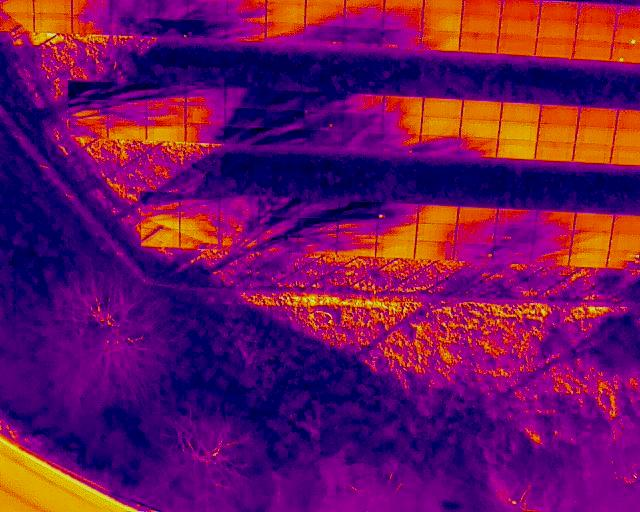Cell: (378, 203, 419, 221)
No-Anomaly: (579, 2, 617, 24), (422, 31, 461, 52), (534, 142, 574, 162), (538, 17, 577, 37), (461, 102, 502, 121), (539, 107, 580, 126), (420, 118, 461, 137), (461, 12, 499, 32), (498, 123, 538, 142), (423, 10, 461, 30), (34, 14, 73, 33), (498, 36, 537, 55), (419, 205, 458, 224), (458, 207, 497, 226), (500, 15, 537, 35), (500, 104, 541, 122), (460, 33, 498, 52), (266, 2, 304, 21), (415, 242, 455, 260), (537, 37, 573, 57), (573, 42, 613, 60), (575, 127, 617, 144), (576, 24, 613, 43), (574, 213, 613, 231), (423, 100, 462, 118), (375, 240, 416, 257), (459, 122, 500, 139), (578, 109, 619, 126), (573, 145, 614, 162), (417, 224, 455, 242), (570, 250, 610, 267), (572, 231, 612, 248), (498, 141, 537, 157), (537, 125, 576, 141), (147, 125, 185, 141), (502, 0, 540, 15), (539, 0, 577, 15), (108, 125, 146, 140), (34, 0, 72, 13)
Shadowing: (344, 28, 383, 52), (306, 26, 344, 50), (345, 5, 384, 28), (266, 22, 306, 43), (68, 80, 108, 101), (384, 29, 422, 51), (228, 0, 266, 22), (419, 137, 460, 157), (227, 22, 266, 43), (189, 0, 228, 21), (72, 15, 112, 35), (145, 84, 185, 104), (219, 195, 259, 215), (343, 94, 383, 114), (259, 196, 299, 216), (109, 82, 147, 103), (188, 19, 226, 40), (384, 7, 422, 28), (306, 4, 344, 25), (140, 210, 179, 230), (226, 87, 265, 107), (219, 213, 258, 233), (107, 104, 146, 124), (185, 105, 224, 125), (265, 108, 304, 128), (382, 115, 421, 135), (459, 139, 498, 159), (140, 229, 180, 248), (494, 228, 534, 247), (225, 109, 265, 128), (303, 111, 341, 131), (343, 114, 383, 133), (298, 218, 337, 237), (180, 194, 219, 213), (382, 136, 419, 156), (218, 232, 259, 250), (259, 216, 297, 235), (146, 105, 184, 124), (150, 1, 188, 20), (383, 97, 423, 115), (498, 209, 535, 228), (535, 211, 574, 229), (180, 212, 219, 230), (69, 120, 108, 138), (185, 126, 224, 144), (299, 199, 338, 217), (338, 201, 377, 219), (266, 89, 304, 107), (337, 220, 375, 238), (151, 18, 187, 37), (455, 227, 493, 245), (112, 17, 150, 35), (140, 191, 178, 209), (185, 87, 225, 104), (377, 222, 417, 239), (342, 134, 382, 151), (493, 246, 532, 263), (180, 232, 219, 249), (226, 128, 265, 145), (68, 102, 107, 119), (303, 93, 342, 110), (185, 126, 224, 143), (534, 229, 572, 246), (454, 244, 492, 261), (303, 131, 341, 148), (532, 247, 569, 264), (266, 129, 303, 146), (337, 239, 376, 255), (298, 237, 336, 253), (112, 0, 149, 16), (72, 0, 112, 14)
